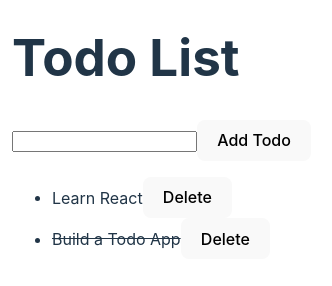
adds a new todo
In the field: (104, 142) [12,131,197,152], type "Write Tests"
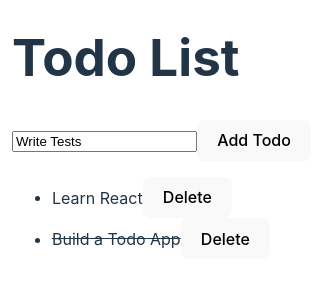
Click the button "Add Todo": (254, 140) [197,120,311,161]
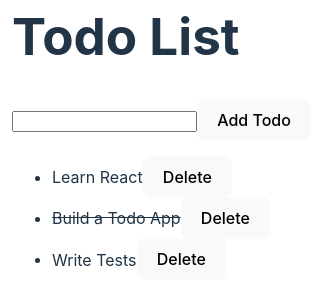
Expected: the list item "Write Tests" is shown, [52,249,137,269]
